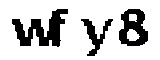8: (118, 7, 150, 50)
f: (49, 5, 71, 50)
w: (6, 16, 52, 50)
y: (78, 16, 113, 59)
